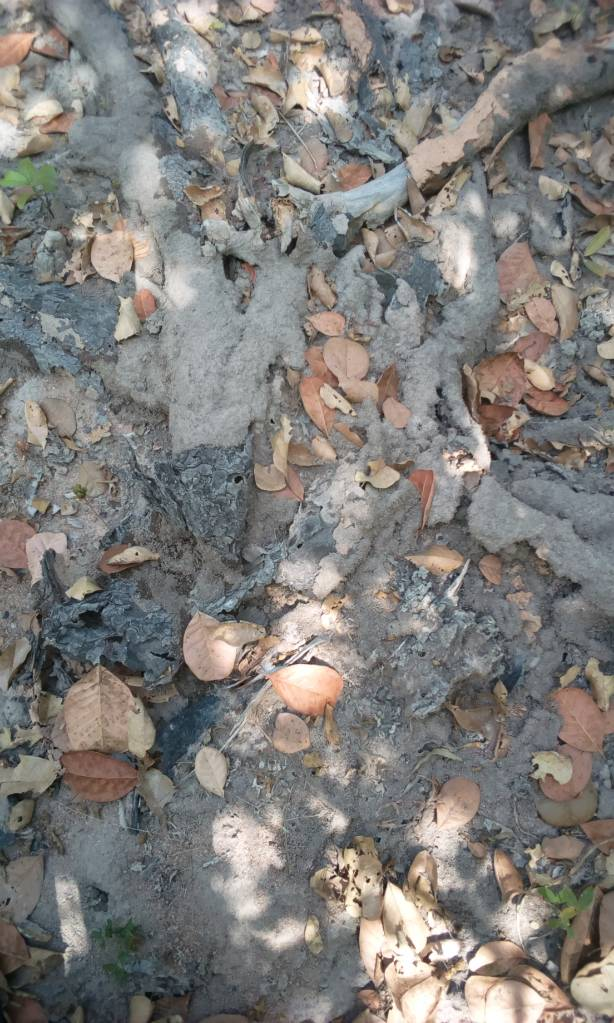Termites: (189, 789, 333, 1013), (164, 244, 280, 444), (489, 474, 614, 630)
